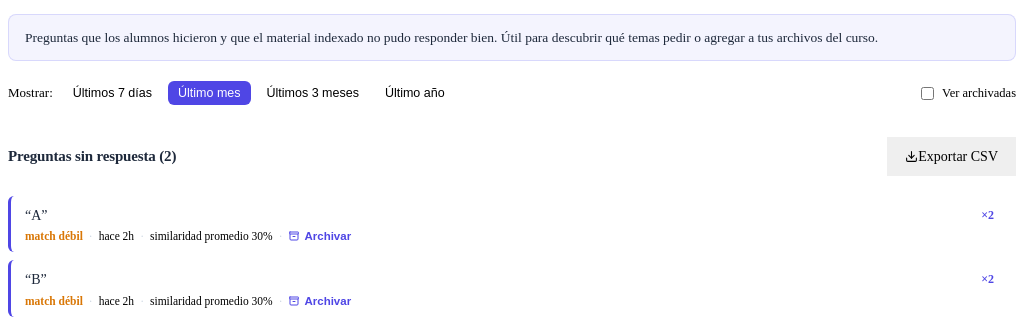
Test: GapsPanel › archivar saca la pregunta de la lista y descuenta el total
Check: the heading "Preguntas sin respuesta (2)" is shown, box top-left (8, 148), bottom-right (176, 165)
Click the button with aria-label "Archivar la pregunta: A" at (320, 236), box top-left (288, 230), bottom-right (351, 242)
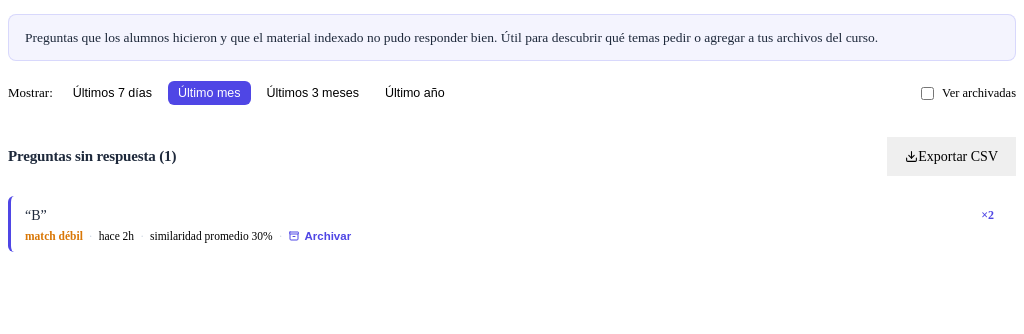
Check: the heading "Preguntas sin respuesta (1)" is shown, box top-left (8, 148), bottom-right (176, 165)
Check: the text "“A”" is gone
